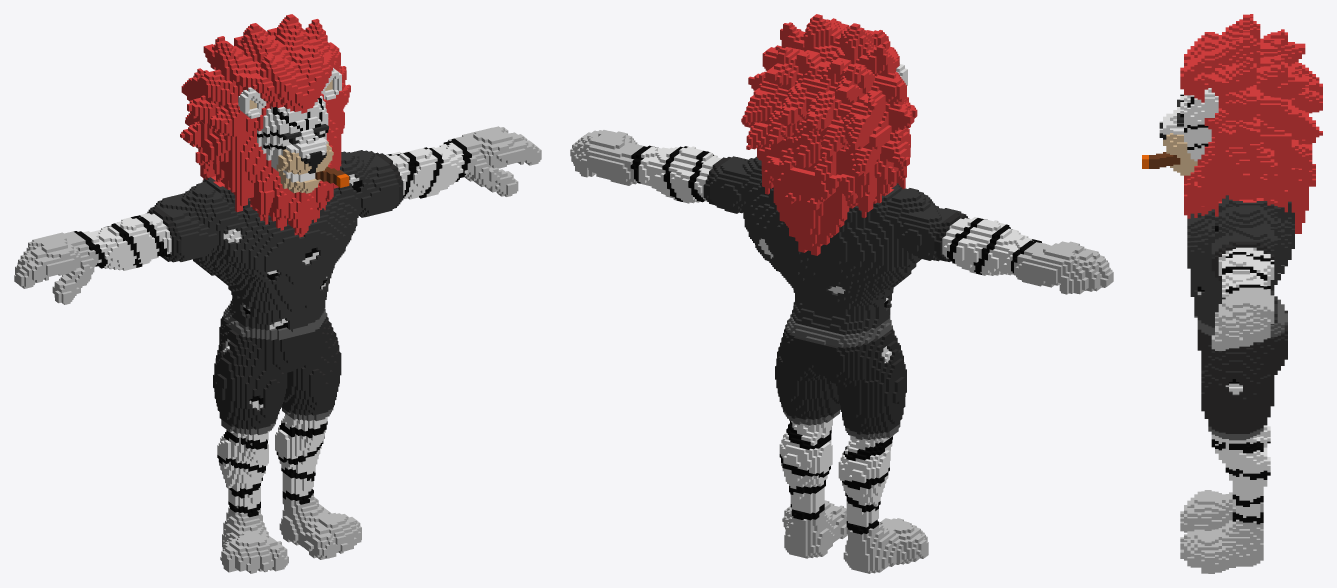
The model's file is 655-2wXJC4UM.glb.
3 renders of one model, left to right at view 1: azimuth 30°, elevation 25°; view 2: azimuth 150°, elevation 25°; view 3: azimuth 270°, elevation 25°, orthographic. The views are drawn at different scales.
Visible parts, largest first — view 1: cigar; view 2: cigar; view 3: cigar.
Boxes of the visible parts, left/top/right/bottom form: cigar: left=14, top=14, right=541, bottom=573; cigar: left=570, top=14, right=1113, bottom=573; cigar: left=1142, top=14, right=1322, bottom=573.
Bounding box in the file's own units: 17.2 × 16.5 × 5.2.
5 materials, 5 textured.
